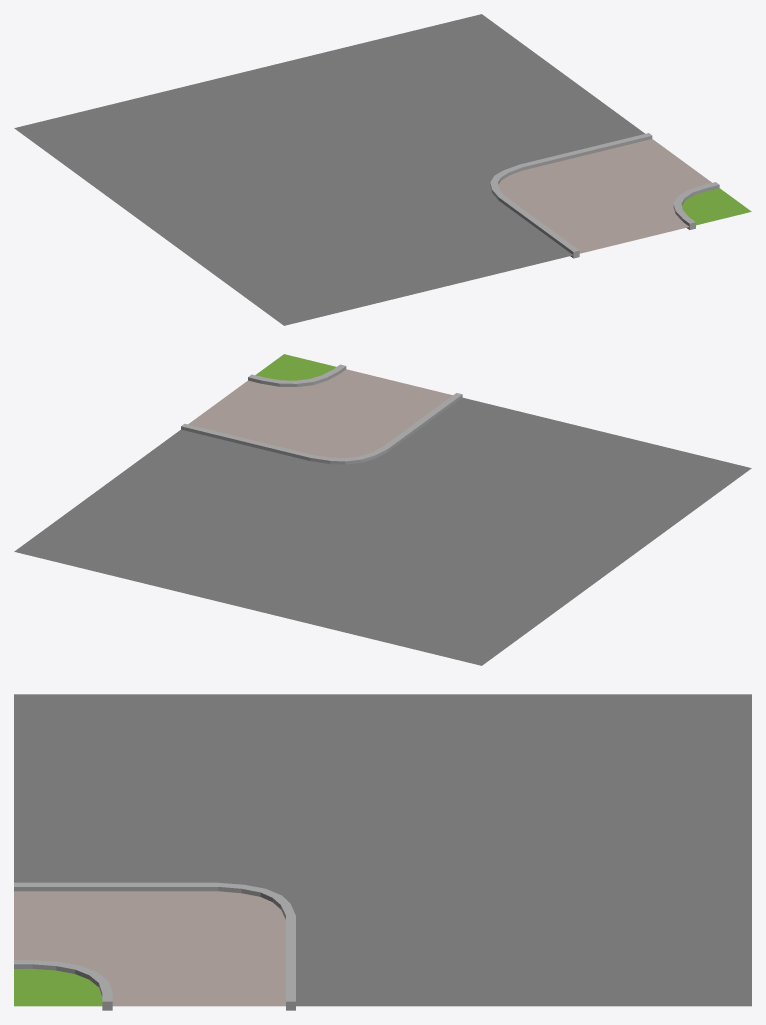
File: building_platform_002.glb
3 views of the same model, one above another, from view 1: azimuth 30°, elevation 25°; view 2: azimuth 150°, elevation 25°; view 3: azimuth 270°, elevation 25° (orthographic). The views are drawn at different scales.
Visible parts, largest first — view 1: building_platform_002; view 2: building_platform_002; view 3: building_platform_002.
Part boxes in pixels (x1=…): building_platform_002: x1=14, y1=14, x2=751, y2=325; building_platform_002: x1=14, y1=354, x2=751, y2=665; building_platform_002: x1=14, y1=694, x2=751, y2=1010.
Bounding box in the file's own units: 15 × 0.2 × 15.
1 material, 1 textured.
